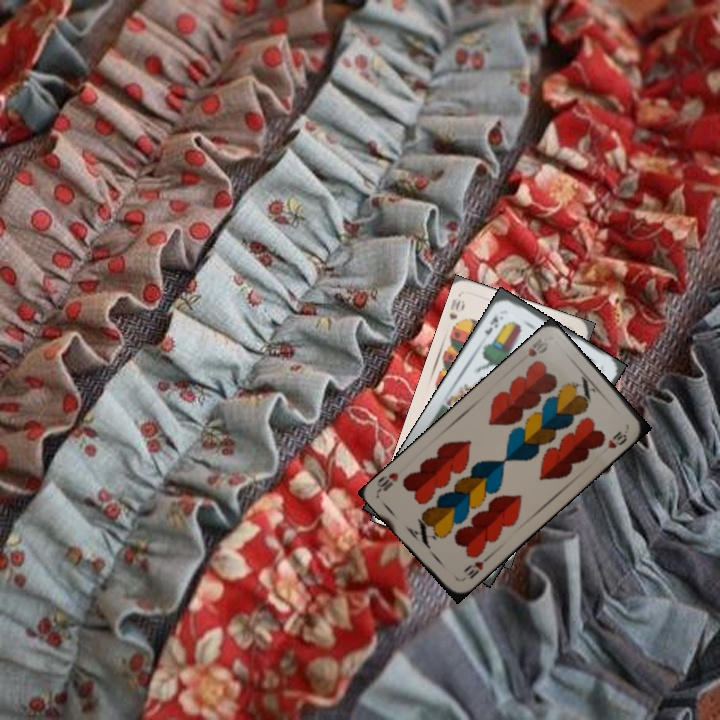EK: (481, 311, 506, 338)
H10: (460, 552, 491, 581), (524, 334, 551, 360)
S10: (445, 294, 468, 332)
